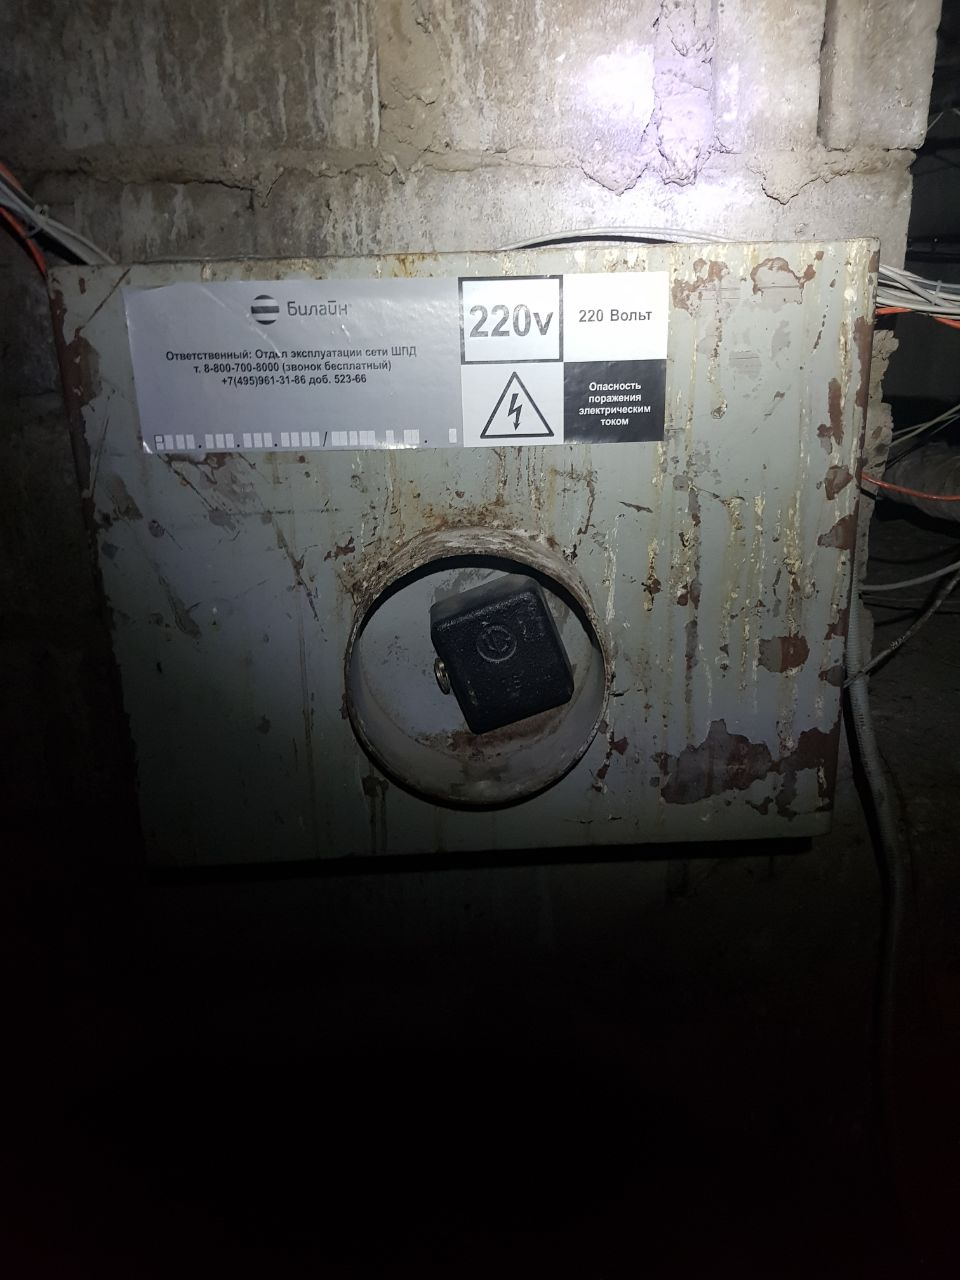shta-3: (39, 231, 884, 886)
